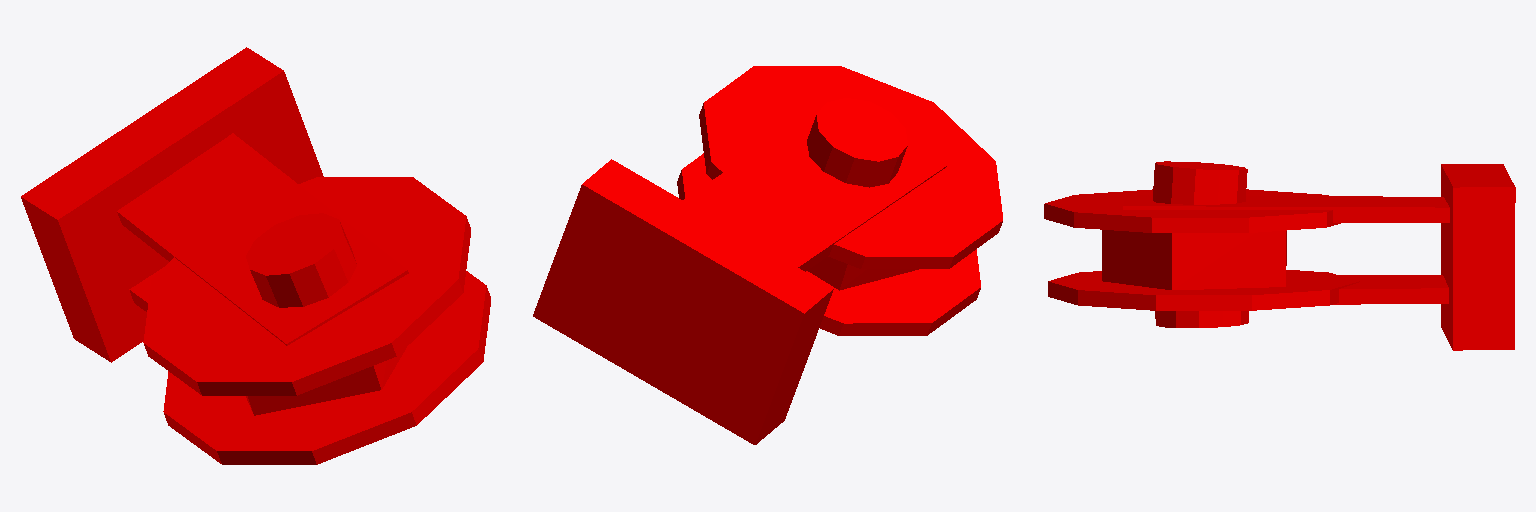
The robot description file, URDF, robot "globe":
<?xml version="1.0"?>
<robot name="globe">
  <link name ="rb1_marker">
    <visual>
      <origin xyz='0 0 0'/>
      <geometry>
        <mesh filename="model.obj"  scale="1 1 1" />
      </geometry>
			<material name="red">
        <color rgba="1 0 0 1"/>
  		</material>
    </visual>
    <collision>
      <origin xyz='0 0 0'/>
      <geometry>
        <mesh filename="model.obj"  scale="1 1 1" />
      </geometry>
    </collision>
  </link>
</robot>

--- Render facts (derived) ---
Views: 3 orthographic renders of the robot side by side, from view 1: azimuth 30°, elevation 25°; view 2: azimuth 150°, elevation 25°; view 3: azimuth 270°, elevation 25°.
Model globe with 1 links and 0 joints (none), rooted at rb1_marker, posed every joint at zero.
Links seen in each view (by area): view 1: rb1_marker; view 2: rb1_marker; view 3: rb1_marker.
Link boxes in pixels (x1,y1,x2,y2): rb1_marker: [21, 47, 490, 464]; rb1_marker: [533, 66, 1002, 444]; rb1_marker: [1044, 161, 1515, 350].
Bounding box of the posed robot: 0.1025 × 0.1511 × 0.0776 m (x, y, z).
Meshes: 1 distinct files referenced, 1 mesh visuals loaded (1 OBJ).